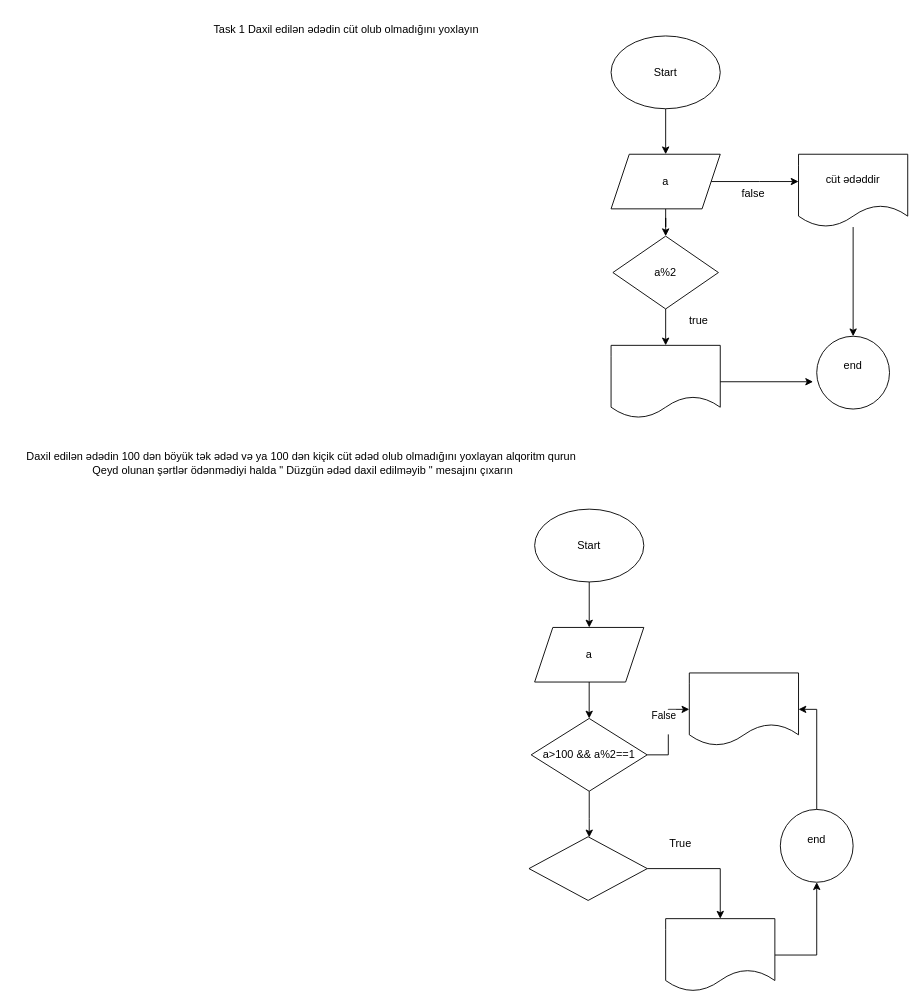
Image size: 924x1007. Some labels were removed from this diagram. Each missing label, with the centre of its shape:
"a<100 && a%2==0" goes at point (587, 868).
"a<100 dən böyük cüt ədəddir" goes at point (720, 954).
"a>100 dən böyük tək ədəddir" goes at point (743, 709).
"tək ədəddir" goes at point (665, 381).
